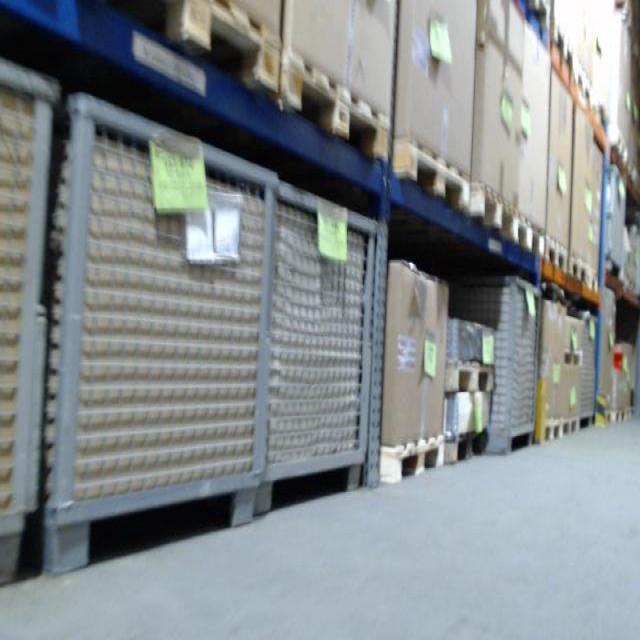pallet: (108, 5, 280, 106), (277, 45, 394, 172), (392, 137, 471, 213), (378, 433, 447, 489), (472, 185, 518, 247), (442, 423, 492, 471), (444, 361, 498, 396), (514, 217, 547, 261), (570, 255, 600, 290), (543, 239, 572, 275), (541, 419, 564, 446)
stillage: (43, 92, 270, 571), (250, 171, 385, 538), (2, 33, 76, 586), (438, 261, 534, 456), (599, 162, 630, 282), (572, 310, 598, 432)
